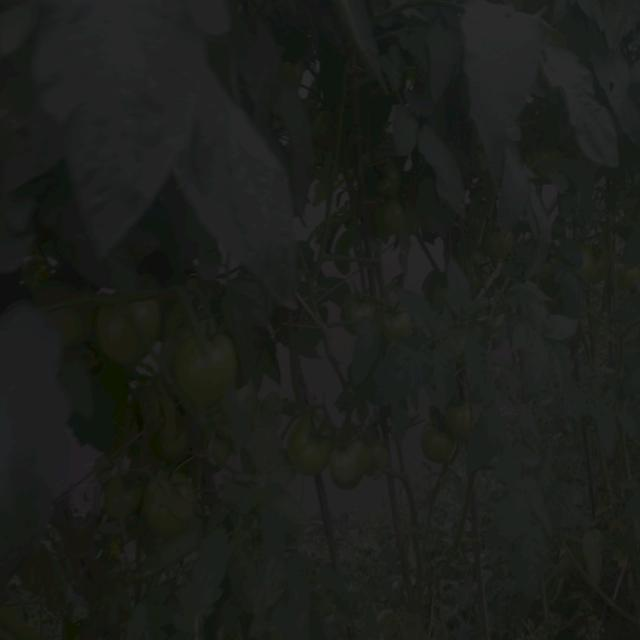tomato: (98, 296, 174, 371), (181, 327, 241, 402), (279, 403, 336, 480), (148, 471, 209, 542), (98, 465, 142, 522), (330, 436, 372, 489), (48, 285, 79, 348), (378, 301, 412, 342), (367, 162, 397, 205), (427, 424, 457, 467), (446, 406, 477, 447), (485, 225, 516, 265), (344, 289, 376, 324), (378, 202, 408, 239), (462, 251, 486, 294), (368, 427, 385, 485), (582, 247, 607, 285), (622, 267, 640, 298)
